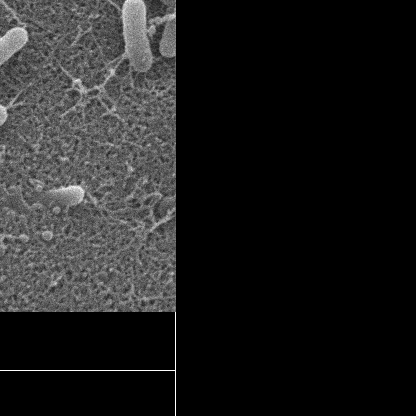cell2cell: (0, 0, 25, 24)
cell2surface: (98, 58, 125, 94)
regular: (0, 26, 31, 124), (125, 0, 152, 74), (157, 15, 176, 58), (0, 106, 7, 160), (138, 0, 176, 3)
